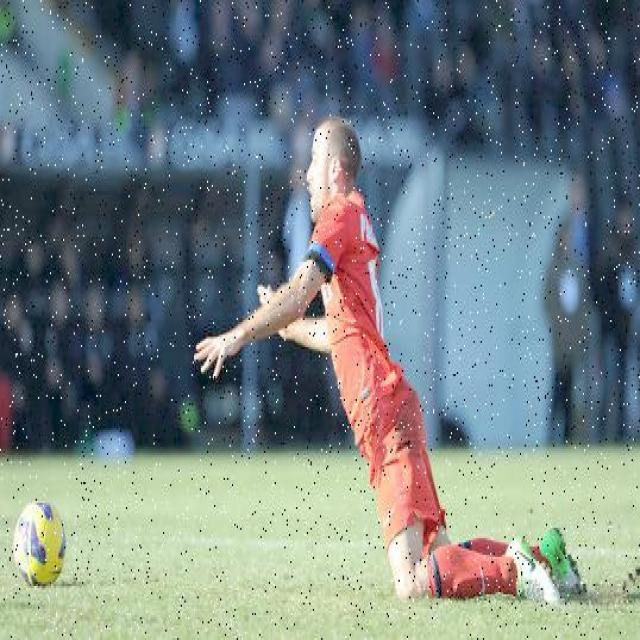fall: (212, 119, 568, 596)
